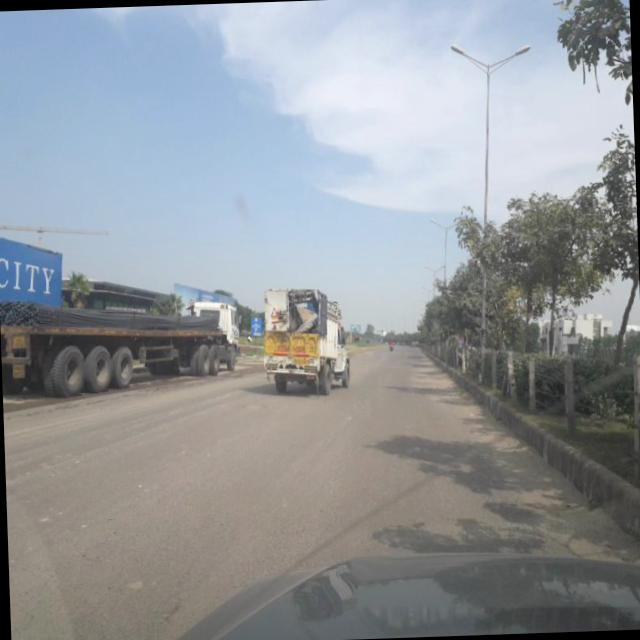crack: (44, 414, 367, 626)
pothole: (226, 393, 274, 413)
